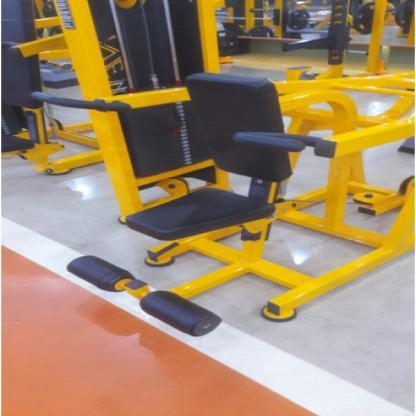seated dip machine: (29, 74, 416, 335)
